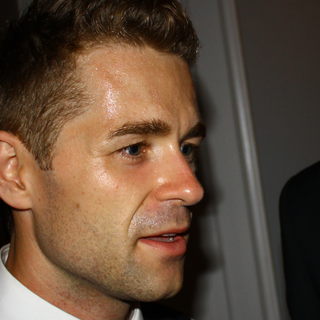eye: (104, 136, 154, 163), (176, 134, 200, 166)
